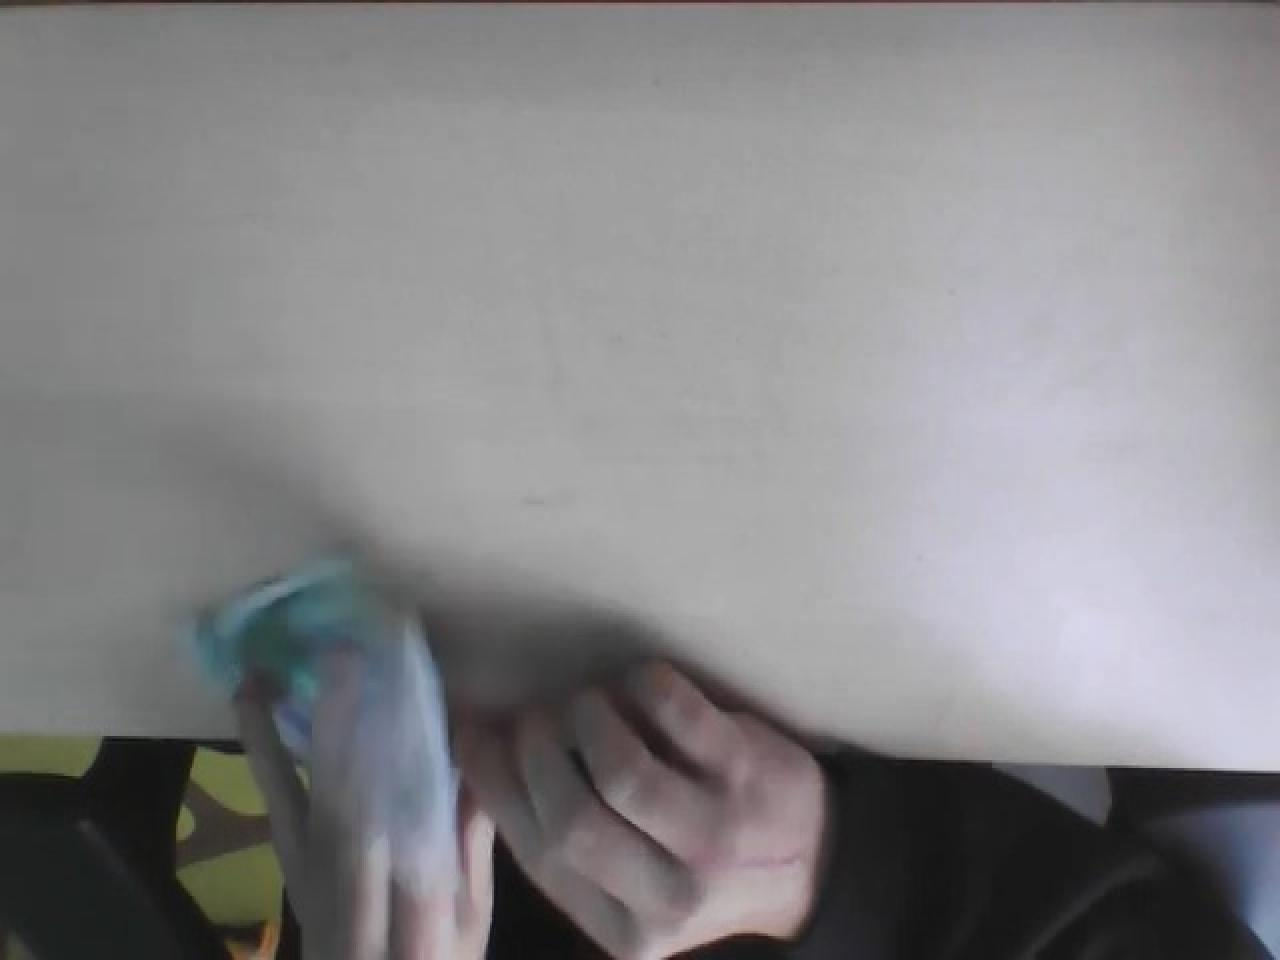100leva: (190, 555, 472, 952)
